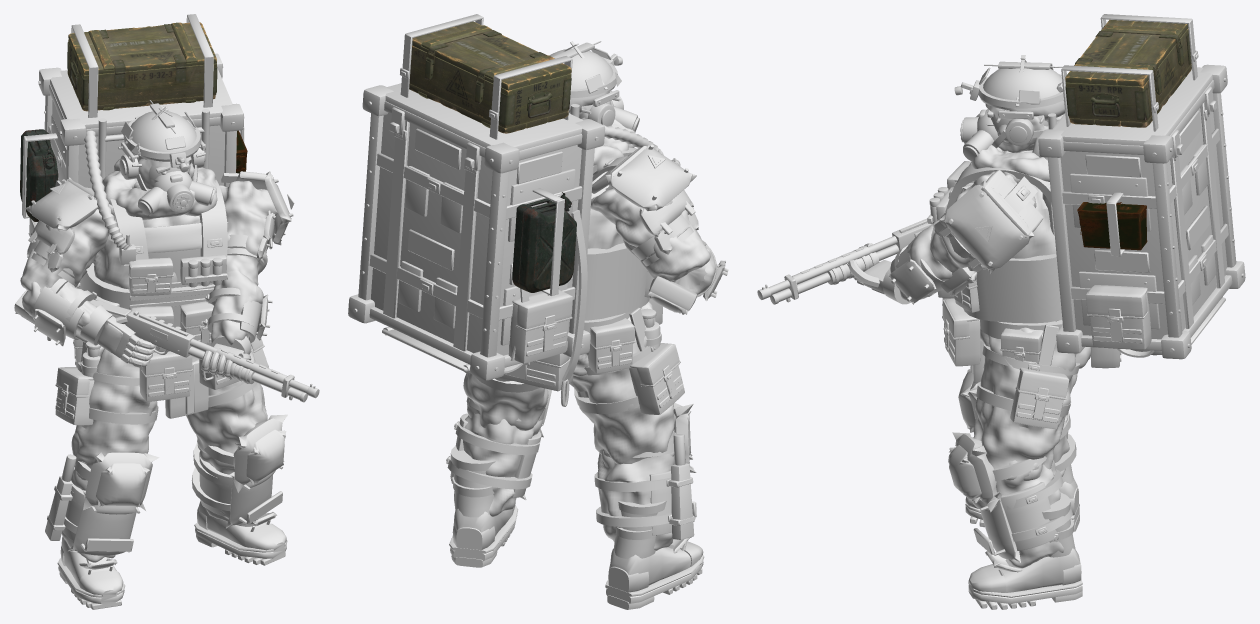
Rendered from Heavy_v4.fbx.
3 views of the same model, side by side, from view 1: azimuth 30°, elevation 25°; view 2: azimuth 150°, elevation 25°; view 3: azimuth 270°, elevation 25° (orthographic). The views are drawn at different scales.
Visible parts, largest first — view 1: HV4_Backpack, HV4_Vest, HV4_LegArmor_R, HV4_LegArmor_L, HV4_PH_old_military_crate_lid_a, HV4_Trouser_R, HV4_PH_old_military_crate_a, HV4_Belt, HV4_Shotgun, HV4_Pauldron_R, HV4_Boot_L, HV4_Sleeve_L (+22 smaller); view 2: HV4_Backpack, HV4_PH_old_military_crate_a, HV4_Pauldron_R, HV4_Boot_R, HV4_Trouser_R, HV4_PH_old_military_crate_lid_a, HV4_Boot_L, HV4_Belt, HV4_PH_metal_jerrycan_green_body, HV4_ThighGear_R, HV4_Vest, HV4_Sleeve_R (+13 smaller); view 3: HV4_Backpack, HV4_Vest, HV4_LegArmor_L, HV4_Pauldron_L, HV4_Trouser_L, HV4_Boot_L, HV4_PH_old_military_crate_lid_a, HV4_PH_old_military_crate_a, HV4_Belt, HV4_ThighGear_L, HV4_Shotgun, HV4_HelmetGear (+13 smaller).
Boxes of the visible parts, x1,y1,x2,y2 form: HV4_Backpack: (22,14,244,340); HV4_Vest: (81,179,228,352); HV4_LegArmor_R: (62,452,159,555); HV4_LegArmor_L: (191,414,287,528); HV4_PH_old_military_crate_lid_a: (68,22,216,75); HV4_Trouser_R: (71,346,157,480); HV4_PH_old_military_crate_a: (67,39,217,111); HV4_Belt: (73,339,251,418); HV4_Shotgun: (90,299,319,402); HV4_Pauldron_R: (25,177,114,287); HV4_Boot_L: (194,501,287,565); HV4_Sleeve_L: (219,181,277,285); HV4_Backpack: (348,14,663,406); HV4_PH_old_military_crate_a: (409,45,571,133); HV4_Pauldron_R: (591,144,698,266); HV4_Boot_R: (605,500,704,609); HV4_Trouser_R: (570,301,676,464); HV4_PH_old_military_crate_lid_a: (412,21,571,90); HV4_Boot_L: (449,446,518,567); HV4_Belt: (500,298,662,391); HV4_PH_metal_jerrycan_green_body: (512,198,576,292); HV4_ThighGear_R: (574,307,684,414); HV4_Vest: (584,147,662,320); HV4_Sleeve_R: (590,185,710,282); HV4_Backpack: (1038,14,1245,359); HV4_Vest: (927,161,1062,323); HV4_LegArmor_L: (948,432,1072,562); HV4_Pauldron_L: (934,170,1043,274); HV4_Trouser_L: (973,327,1077,480); HV4_Boot_L: (968,492,1082,609); HV4_PH_old_military_crate_lid_a: (1065,19,1188,86); HV4_PH_old_military_crate_a: (1065,29,1191,127); HV4_Belt: (942,298,1121,383); HV4_ThighGear_L: (976,324,1079,429); HV4_Shotgun: (757,218,931,304); HV4_HelmetGear: (954,55,1063,148).
Bounding box in the file's own units: 113 × 204 × 169.
